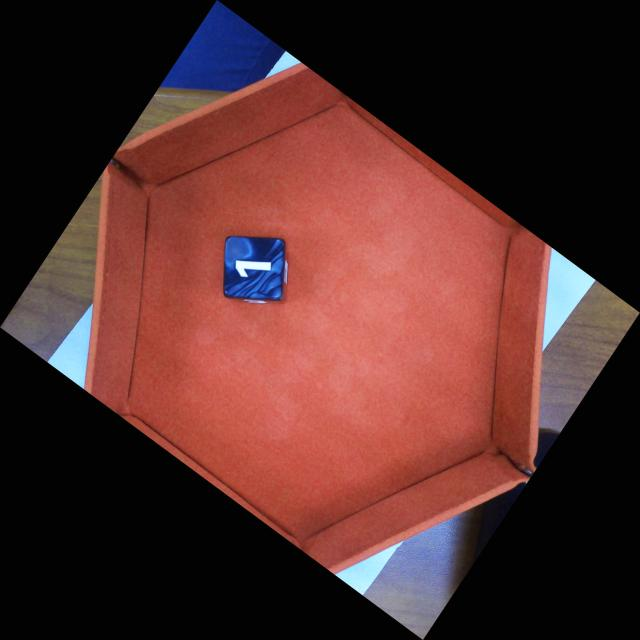dice: (221, 234, 285, 302)
